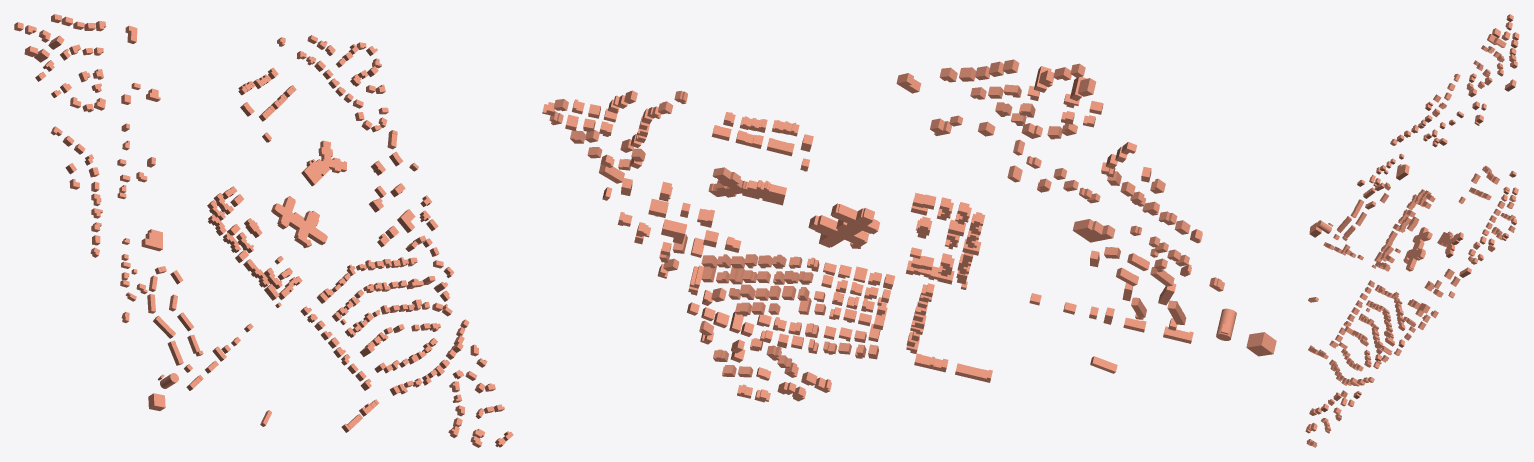
The picture shows the model from 3 angles, left to right: view 1: azimuth 30°, elevation 25°; view 2: azimuth 150°, elevation 25°; view 3: azimuth 270°, elevation 25°; orthographic projection. The views are drawn at different scales.
Parts seen in each view (by area): view 1: mesh; view 2: mesh; view 3: mesh.
Part boxes in pixels (<box>): mesh: <box>14,14,513,447</box>; mesh: <box>542,59,1276,402</box>; mesh: <box>1305,14,1519,447</box>.
Size of the model in its own units: 869 by 930 by 590.
